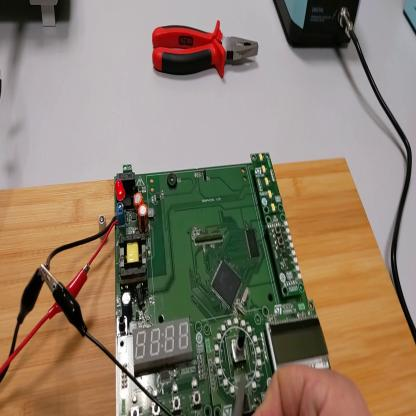hand: (256, 362, 370, 415)
low voltage board: (48, 151, 332, 415)
oscilloscope: (30, 3, 70, 27)
oscilloscope probe tip: (232, 373, 247, 416)
pliers: (153, 18, 261, 81)
welder base: (404, 2, 416, 35)
welder station: (275, 1, 362, 52)
working area: (1, 157, 416, 416)
